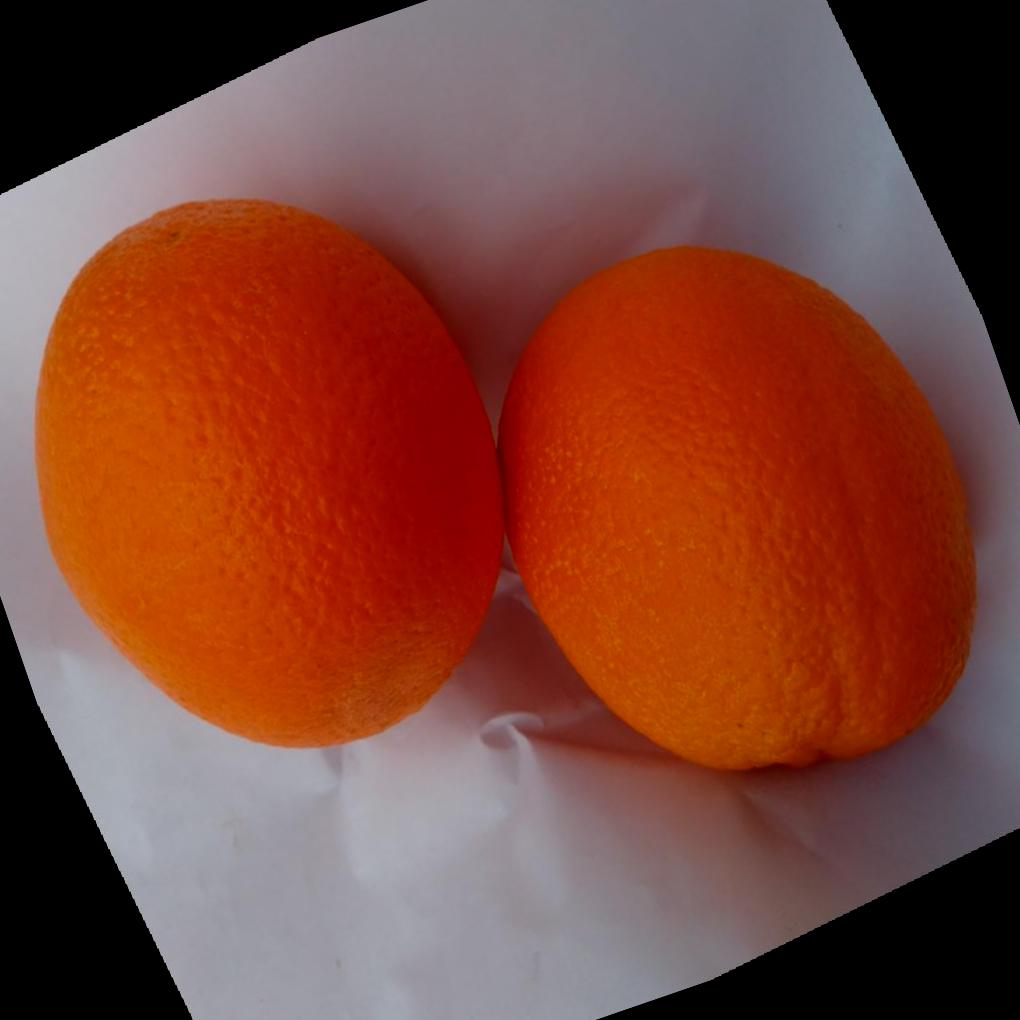FreshGuava: (34, 193, 983, 772)
